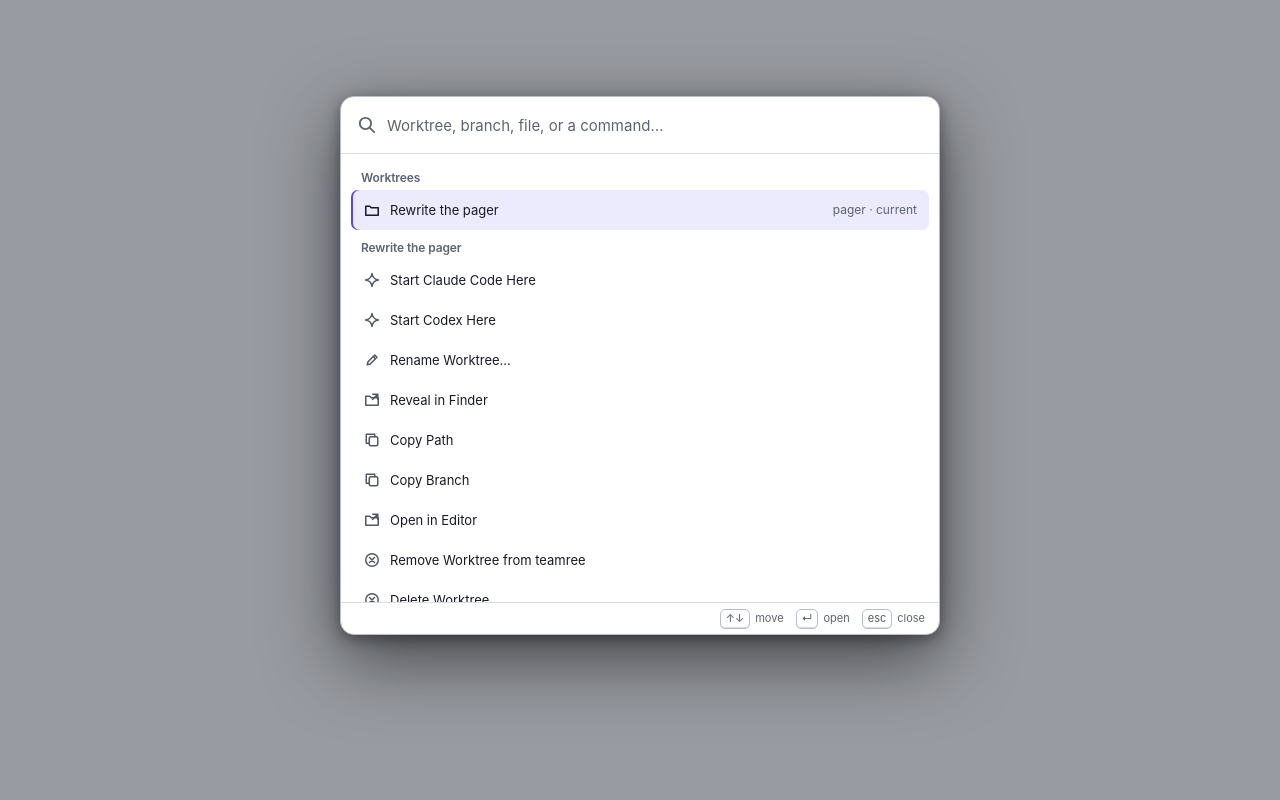
Test: the focused file while the Changes list is unread › asks the runtime about that one path
The image size is (1280, 800).
Type "discard" into the field.
click(655, 125); type("discard")  # box x1=387 y1=101 x2=923 y2=149
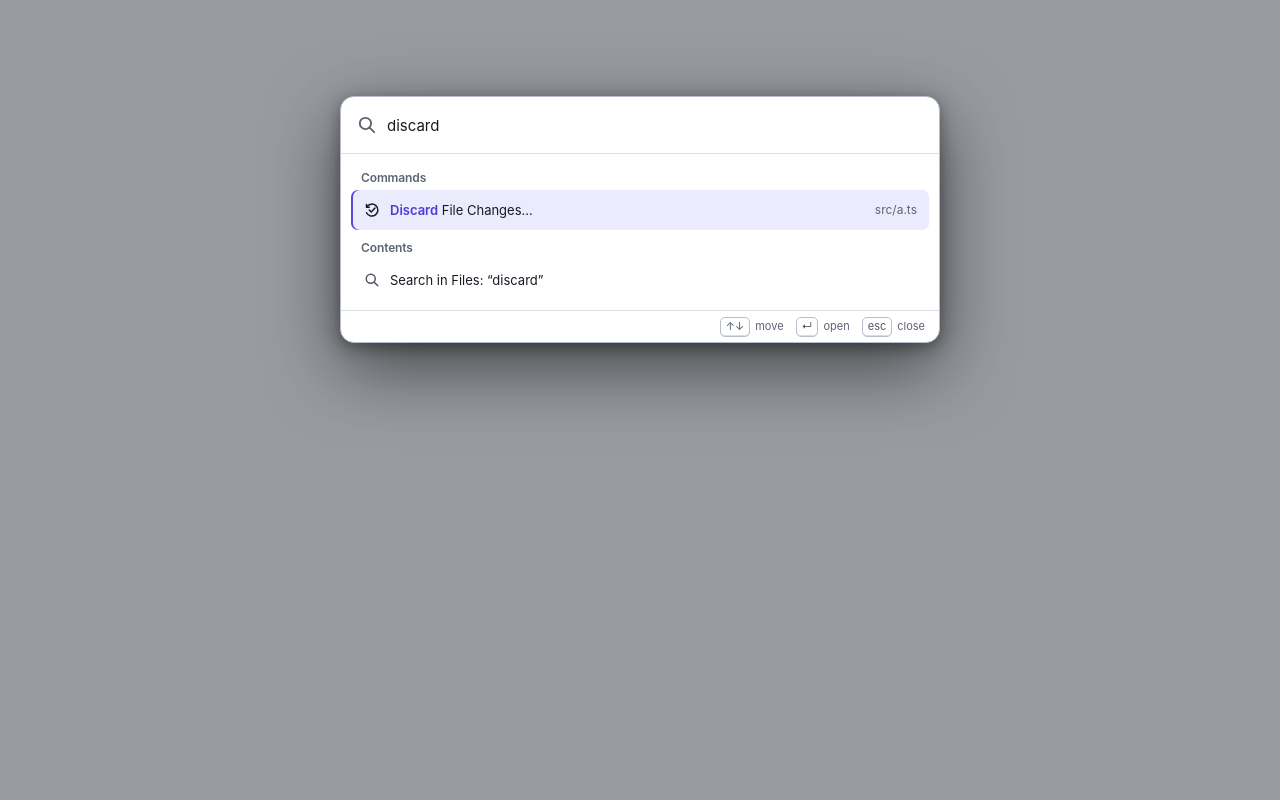
Expected: the element showing "Discard File Changes…" is shown, x1=390 y1=201 x2=533 y2=219
